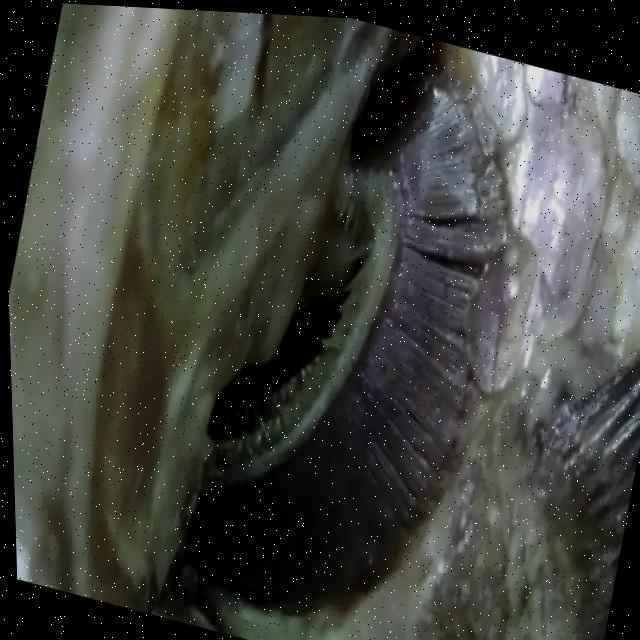Non-Fresh: (168, 7, 554, 640)
